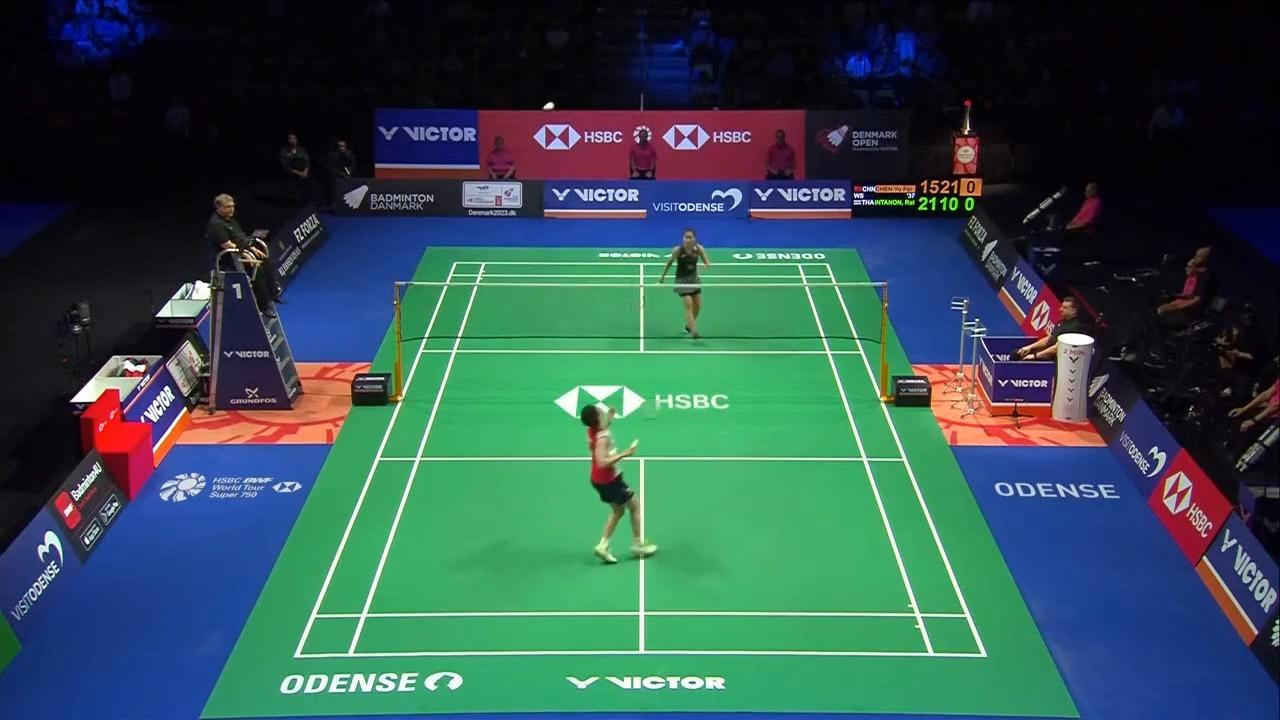shuttle: (542, 100, 557, 114)
